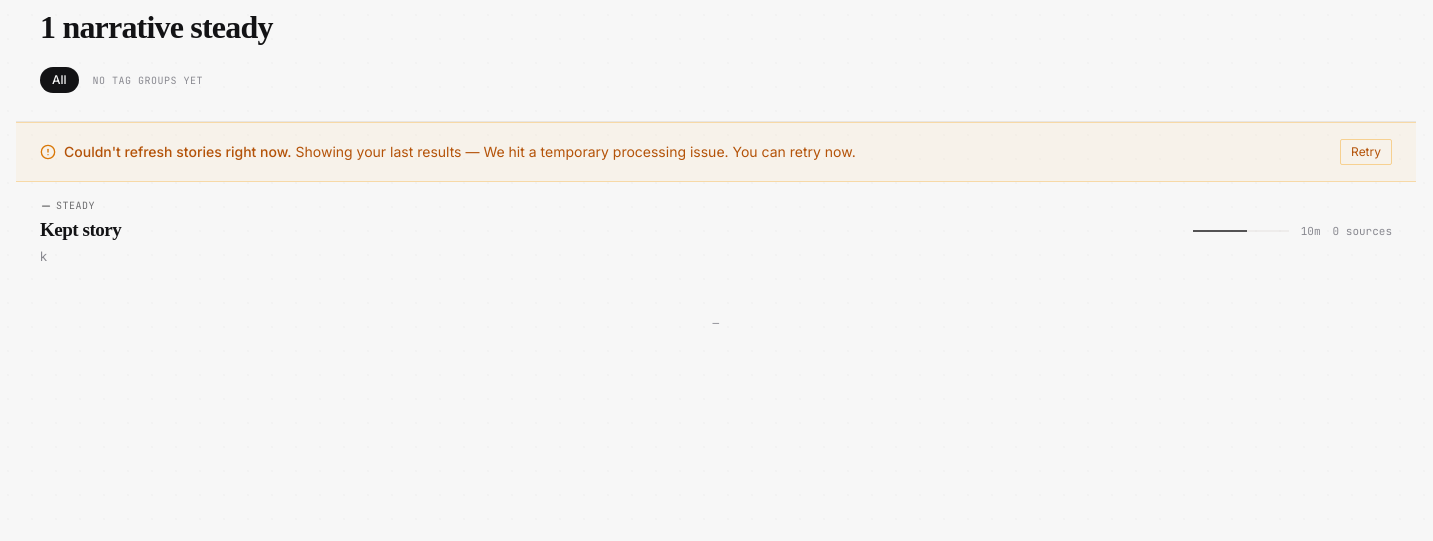
Test: Dashboard load states (no fake-story fallback) › Step 3: the fail-safe banner retry routes through the default-profile refresh
The width and height of the screenshot is (1433, 541).
Expected: the element with test id "dashboard-refresh-banner" is shown, [16, 122, 1416, 182]
Click the button "Retry" at (1366,152), box [1340, 139, 1392, 165]
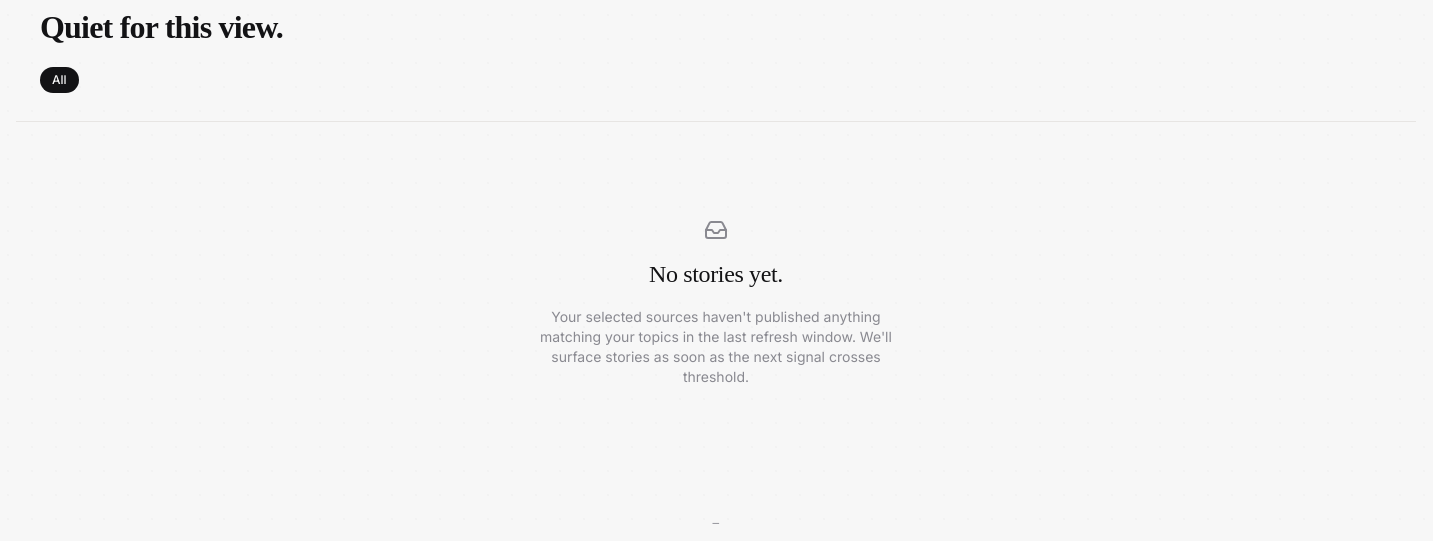
Now the element with test id "dashboard-empty" is shown, box [540, 218, 892, 385]
